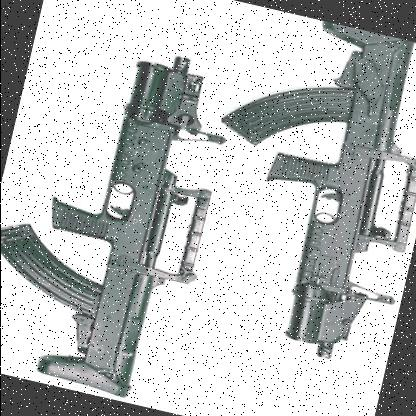rifle: (0, 14, 253, 404), (178, 4, 416, 365)
